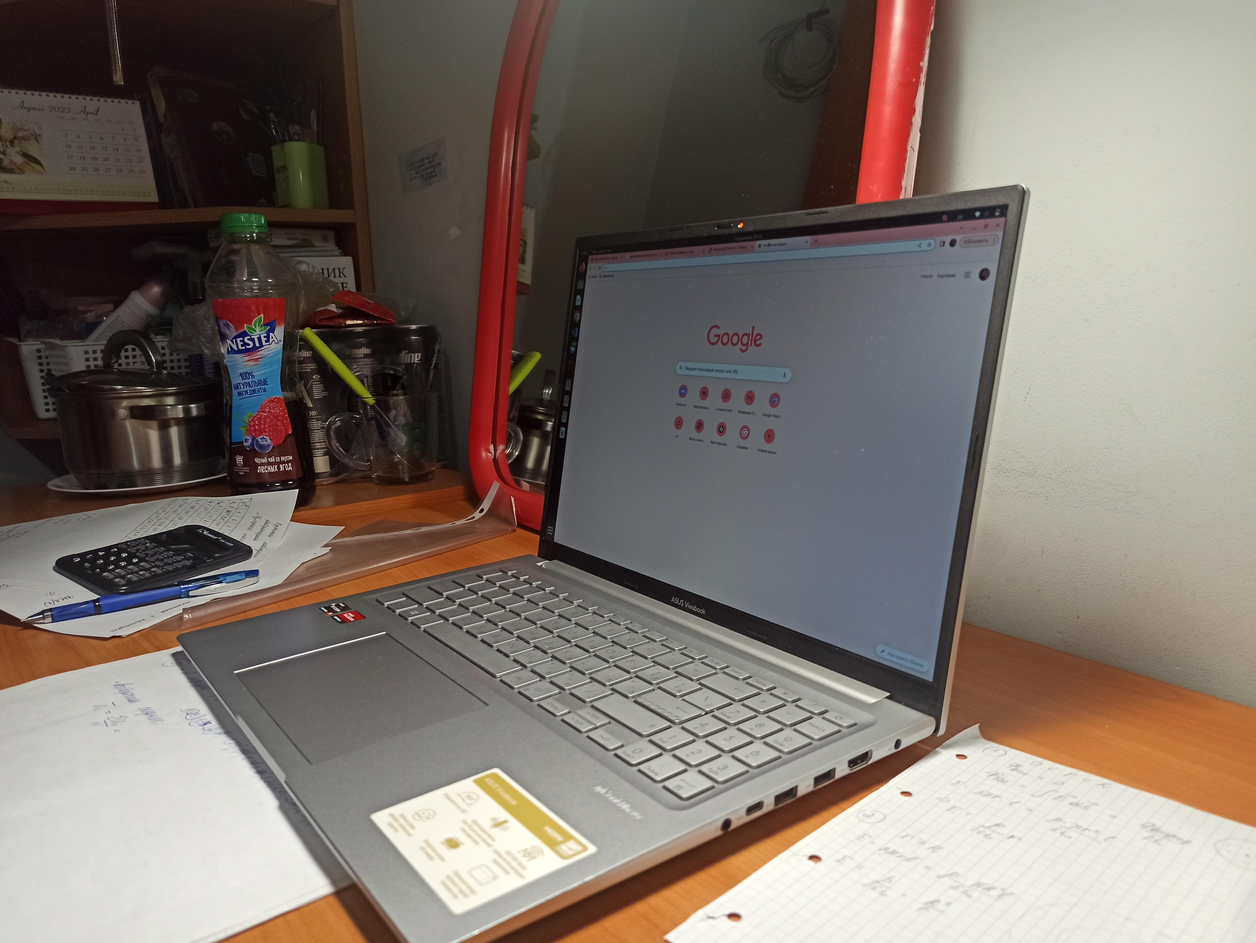monitor: (538, 183, 1034, 739)
